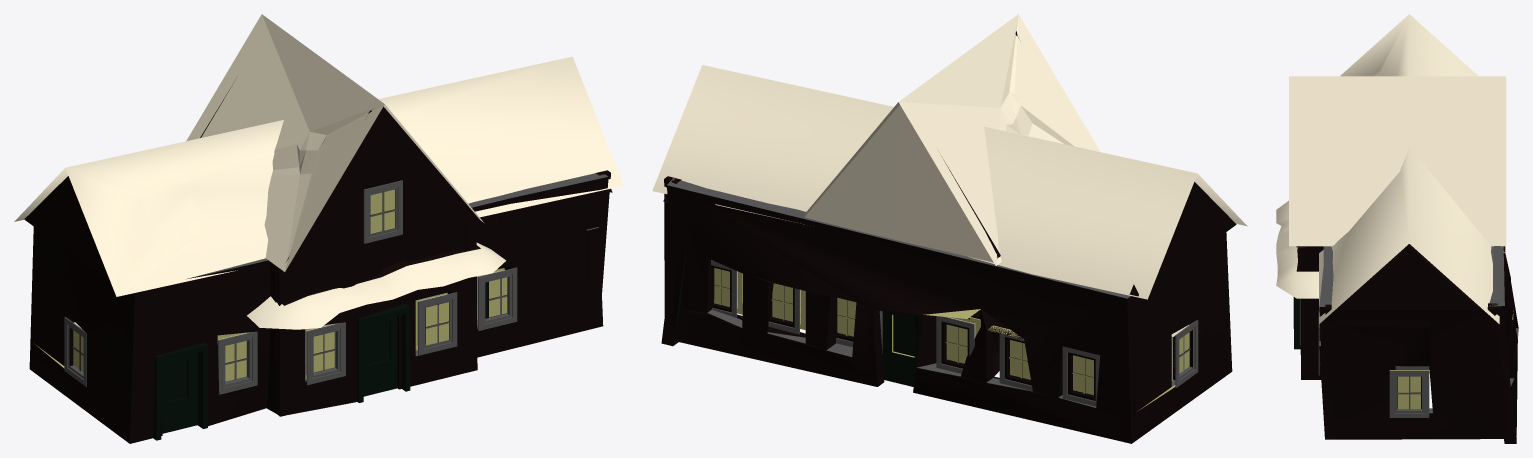
File: CasaEstado2.fbx
3 renders of one model, left to right at view 1: azimuth 30°, elevation 25°; view 2: azimuth 150°, elevation 25°; view 3: azimuth 270°, elevation 25°, orthographic. The views are drawn at different scales.
Visible parts, largest first — view 1: Wall001, Plane001, Plane002, Box001, Plane003, PivotDoor002, PivotDoor001, Box003, AwningWindow010, AwningWindow001, AwningWindow005, AwningWindow002 (+7 smaller); view 2: Wall001, Plane001, Plane002, Box002, Box003, PivotDoor003, AwningWindow004, AwningWindow007, AwningWindow012, AwningWindow009, AwningWindow006, AwningWindow008 (+4 smaller); view 3: Plane002, Wall001, Plane001, Box004, Plane003, AwningWindow013, Box041, PivotDoor001.
Boxes of the visible parts, left/top/right/bottom form: Wall001: left=29, top=170, right=610, bottom=443; Plane001: left=14, top=56, right=623, bottom=296; Plane002: left=186, top=14, right=483, bottom=271; Box001: left=286, top=106, right=480, bottom=267; Plane003: left=247, top=242, right=506, bottom=329; PivotDoor002: left=153, top=342, right=207, bottom=440; PivotDoor001: left=357, top=303, right=410, bottom=402; Box003: left=24, top=176, right=110, bottom=282; AwningWindow010: left=476, top=267, right=517, bottom=330; AwningWindow001: left=305, top=322, right=345, bottom=385; AwningWindow005: left=217, top=331, right=257, bottom=394; AwningWindow002: left=415, top=292, right=457, bottom=355; Wall001: left=661, top=176, right=1232, bottom=443; Plane001: left=652, top=65, right=1247, bottom=299; Plane002: left=801, top=14, right=1100, bottom=265; Box002: left=804, top=105, right=1000, bottom=262; Box003: left=1129, top=182, right=1236, bottom=296; PivotDoor003: left=877, top=310, right=920, bottom=386; AwningWindow004: left=936, top=316, right=980, bottom=373; AwningWindow007: left=1062, top=346, right=1100, bottom=406; AwningWindow012: left=1171, top=320, right=1198, bottom=387; AwningWindow009: left=768, top=288, right=805, bottom=334; AwningWindow006: left=999, top=333, right=1032, bottom=391; AwningWindow008: left=711, top=260, right=742, bottom=317; Plane002: left=1289, top=76, right=1506, bottom=246; Wall001: left=1300, top=246, right=1518, bottom=443; Plane001: left=1319, top=14, right=1499, bottom=323; Box004: left=1320, top=244, right=1498, bottom=327; Plane003: left=1276, top=201, right=1318, bottom=298; AwningWindow013: left=1389, top=366, right=1429, bottom=417; Box041: left=1397, top=376, right=1420, bottom=408; PivotDoor001: left=1293, top=297, right=1300, bottom=349.
Bounding box in the file's own units: 214 × 121 × 100.
